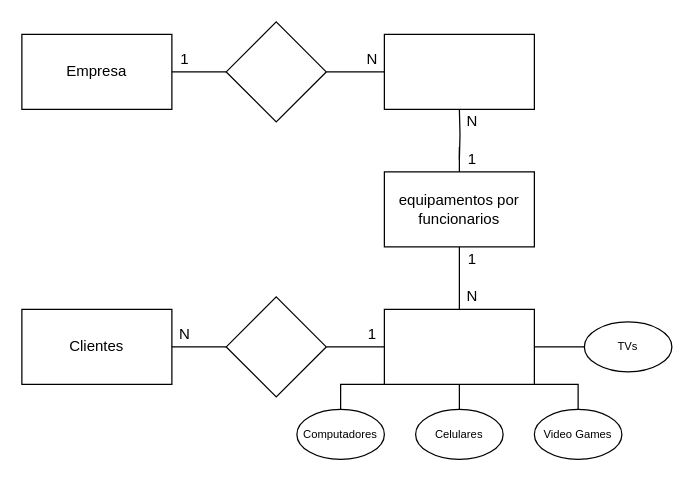
The diagram is 694 pixels wide and 481 high, and some of its shapes have lost their labels. The box of each missing label's shape, as (x1, y1, x2, y2) in pixels:
Colaboradores: (383, 33, 534, 109)
Equipamentos: (383, 308, 534, 384)
leva: (225, 296, 326, 397)
possui: (225, 21, 326, 122)
